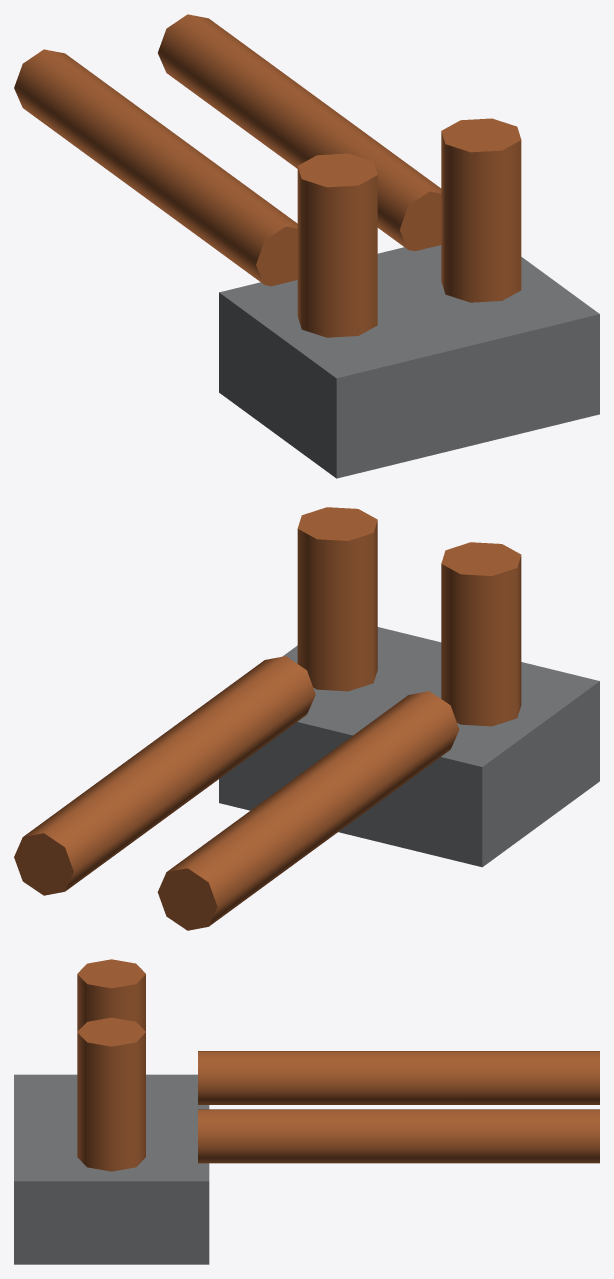
File: th_emergency_coolant.obj
The picture shows the model from 3 angles, top to bottom: view 1: azimuth 30°, elevation 25°; view 2: azimuth 150°, elevation 25°; view 3: azimuth 270°, elevation 25°; orthographic projection. The views are drawn at different scales.
Visible parts, largest first — view 1: th_emergency_coolant; view 2: th_emergency_coolant; view 3: th_emergency_coolant.
Part boxes in pixels (bbox=[...]): th_emergency_coolant: bbox=[14, 14, 599, 478]; th_emergency_coolant: bbox=[14, 507, 599, 930]; th_emergency_coolant: bbox=[14, 959, 599, 1264].
Bounding box in the file's own units: 0.44 × 0.4 × 1.02.
